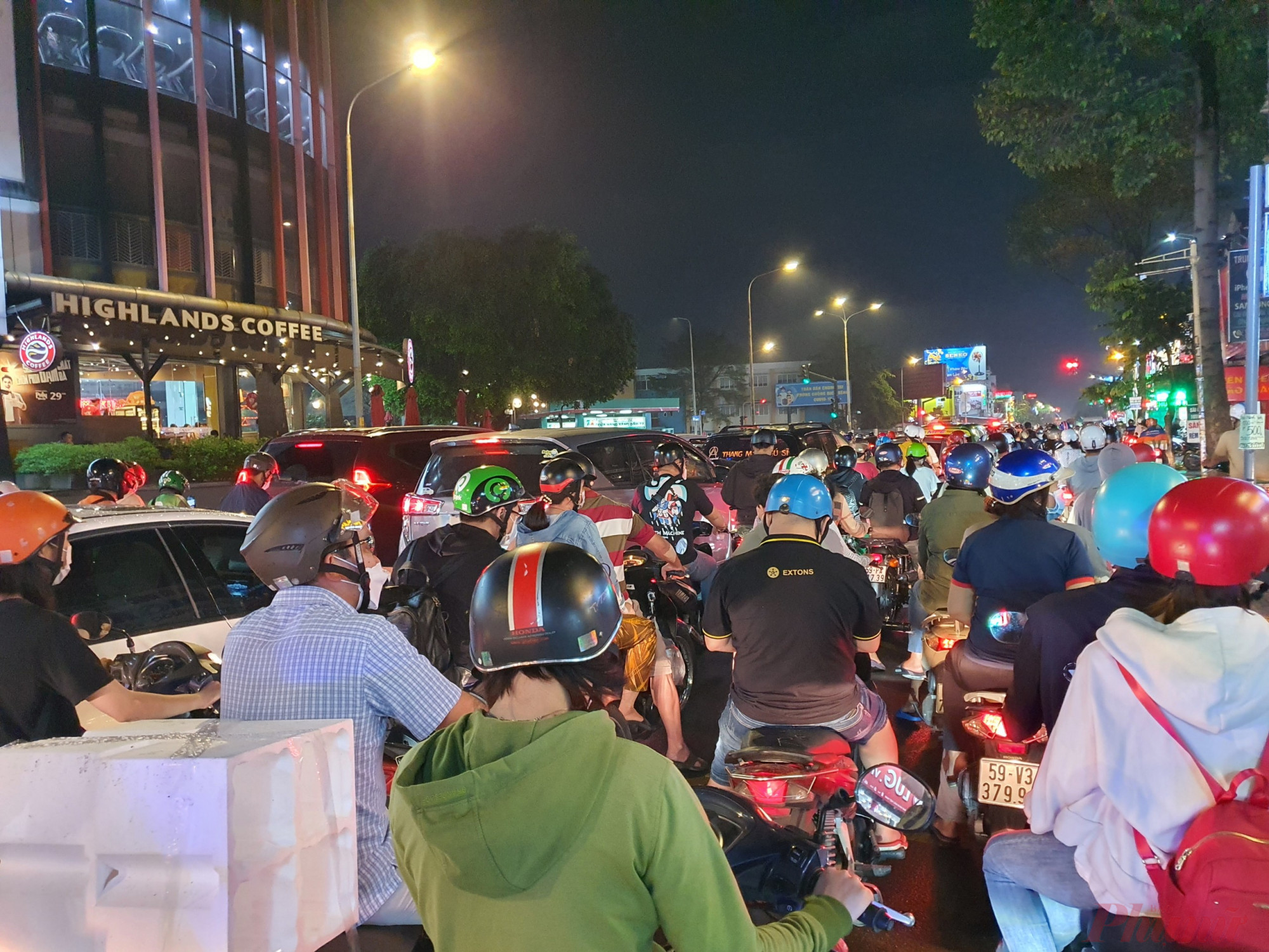Bien-so: (979, 758, 1034, 813)
